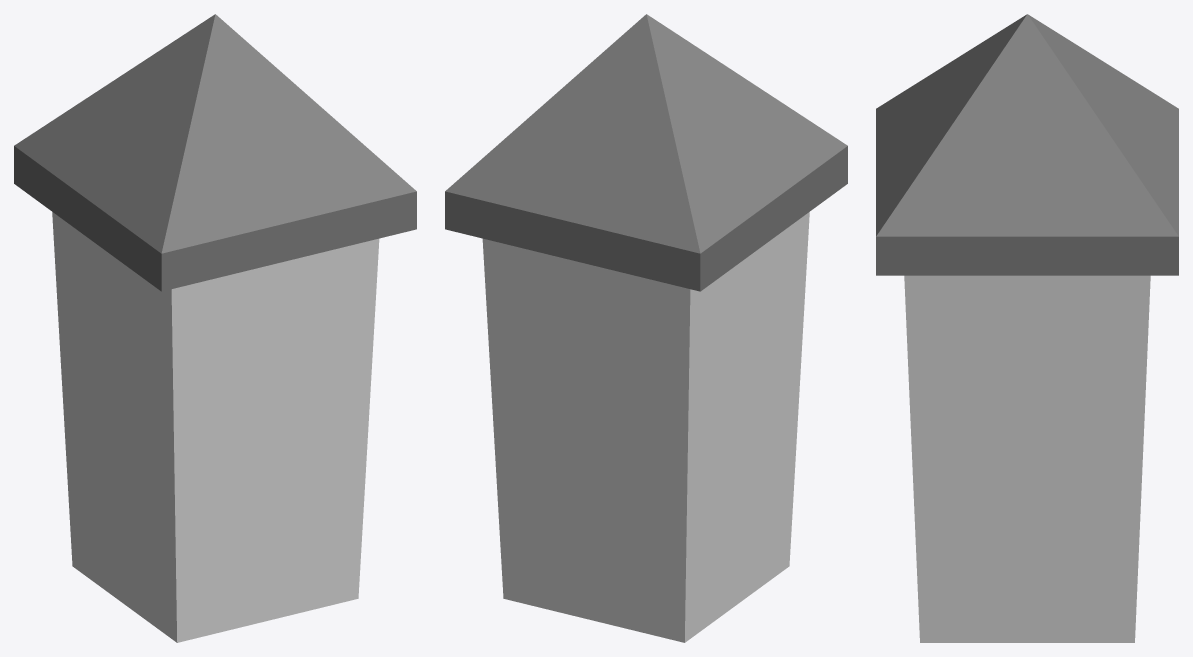
The model's file is Fence 3 (pillar).fbx.
3 renders of one model, left to right at view 1: azimuth 30°, elevation 25°; view 2: azimuth 150°, elevation 25°; view 3: azimuth 270°, elevation 25°, orthographic. The views are drawn at different scales.
Visible parts, largest first — view 1: Fence 3 (pillar); view 2: Fence 3 (pillar); view 3: Fence 3 (pillar).
Part boxes in pixels (<box>): Fence 3 (pillar): <box>14,14,416,642</box>; Fence 3 (pillar): <box>445,14,847,642</box>; Fence 3 (pillar): <box>876,14,1178,642</box>.
Size of the model in its own units: 104 by 222 by 104.
